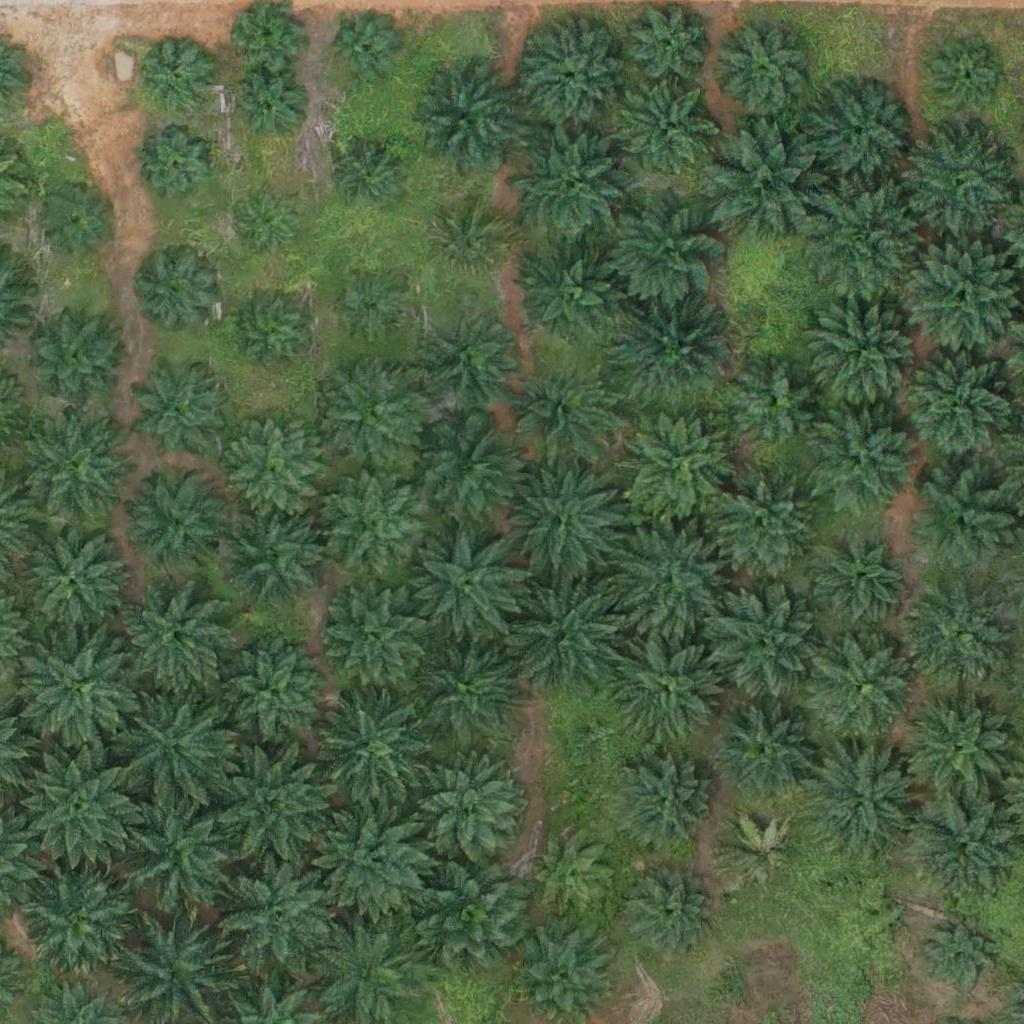Kelapa_Sawit: (402, 57, 527, 183), (404, 523, 529, 649), (509, 118, 634, 244), (604, 188, 729, 314), (701, 121, 826, 247), (804, 180, 929, 306), (898, 345, 1023, 471), (402, 745, 527, 871), (407, 847, 532, 973), (306, 685, 431, 811), (303, 794, 428, 920), (204, 628, 329, 754), (209, 738, 334, 864), (209, 848, 334, 974), (116, 578, 241, 704), (113, 686, 238, 812), (111, 787, 236, 913), (19, 621, 144, 747), (17, 741, 142, 867), (16, 855, 141, 981), (21, 408, 134, 522), (810, 298, 923, 412), (902, 583, 1015, 697), (17, 521, 130, 634), (412, 414, 525, 527), (508, 468, 621, 581), (808, 403, 921, 516), (801, 521, 914, 634), (902, 469, 1015, 582), (902, 692, 1015, 805), (906, 793, 1019, 906), (610, 628, 723, 741), (606, 741, 719, 854), (504, 580, 617, 693), (905, 236, 1017, 350), (318, 354, 430, 467), (320, 469, 432, 582), (518, 240, 630, 353), (505, 356, 617, 469), (617, 293, 729, 406), (622, 412, 734, 525), (615, 522, 727, 635), (703, 467, 815, 580), (900, 121, 1012, 234), (807, 632, 919, 745), (806, 746, 918, 859), (707, 583, 819, 696), (409, 633, 521, 746), (318, 585, 430, 698), (519, 21, 619, 122), (617, 861, 717, 962), (522, 821, 622, 922), (28, 311, 128, 411), (130, 360, 230, 460), (132, 475, 232, 575), (223, 421, 323, 521), (222, 509, 322, 609), (618, 78, 718, 178), (808, 84, 908, 184), (513, 920, 613, 1020), (715, 810, 803, 899), (135, 246, 223, 334), (230, 289, 318, 377), (732, 359, 820, 447), (722, 711, 810, 799), (427, 312, 514, 400), (718, 25, 805, 113), (929, 42, 1004, 118), (44, 187, 119, 263), (433, 205, 508, 280), (141, 38, 216, 113), (141, 130, 216, 205), (229, 74, 304, 149), (327, 11, 402, 86), (330, 141, 405, 216), (336, 271, 411, 346), (922, 919, 997, 994), (235, 193, 297, 256)
